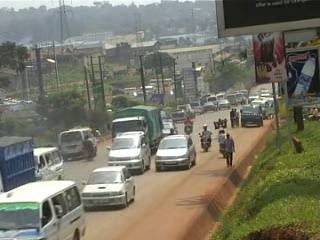Car: (79, 165, 139, 215), (105, 131, 155, 176), (153, 134, 197, 172), (173, 101, 196, 120), (161, 120, 180, 141), (168, 109, 189, 125), (199, 102, 220, 115), (246, 88, 262, 103), (190, 100, 203, 117), (218, 98, 230, 109)
Motorcycle: (81, 137, 97, 162), (197, 128, 211, 153), (183, 118, 193, 135), (167, 128, 179, 138), (238, 98, 246, 108)
